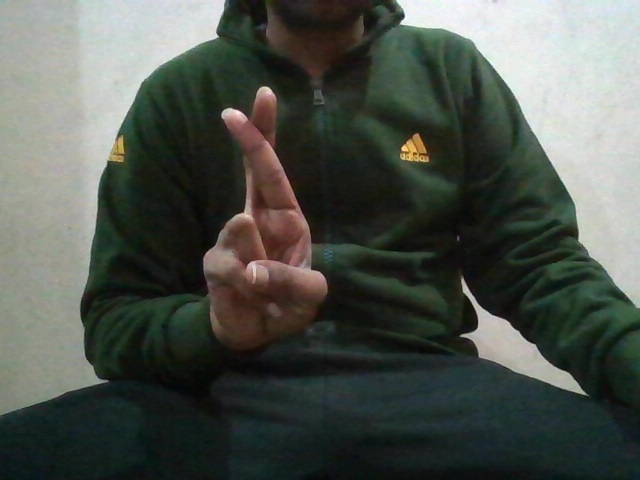R: (192, 87, 331, 348)
